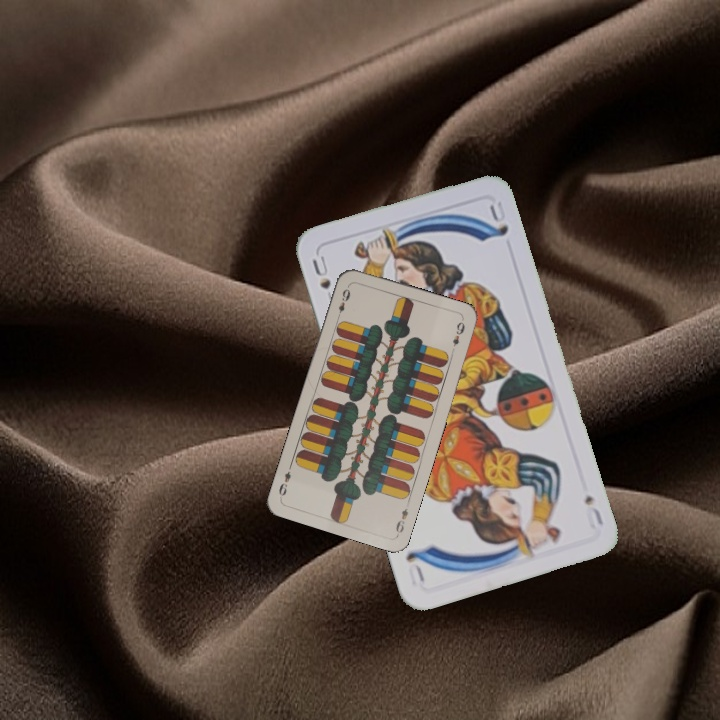E9: (391, 498, 412, 535), (333, 285, 353, 321)
SU: (308, 251, 334, 292), (580, 490, 606, 531)
